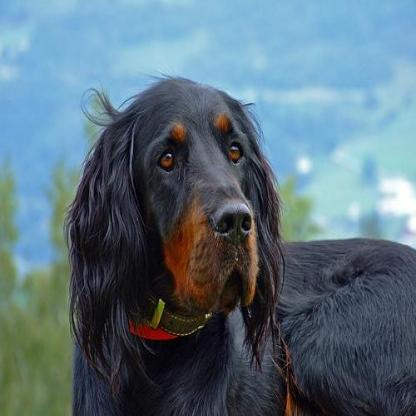Gordon_setter: (65, 71, 414, 414)
